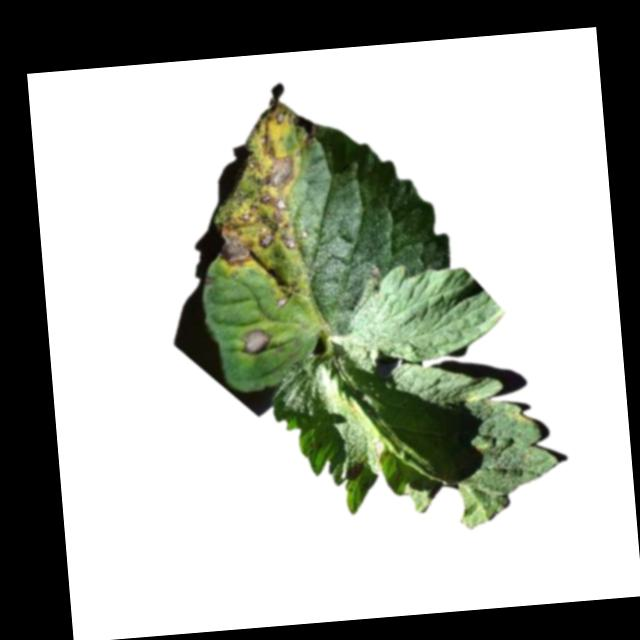Early_blight: (207, 98, 328, 269), (239, 327, 272, 355), (273, 278, 300, 307), (345, 460, 365, 482)
